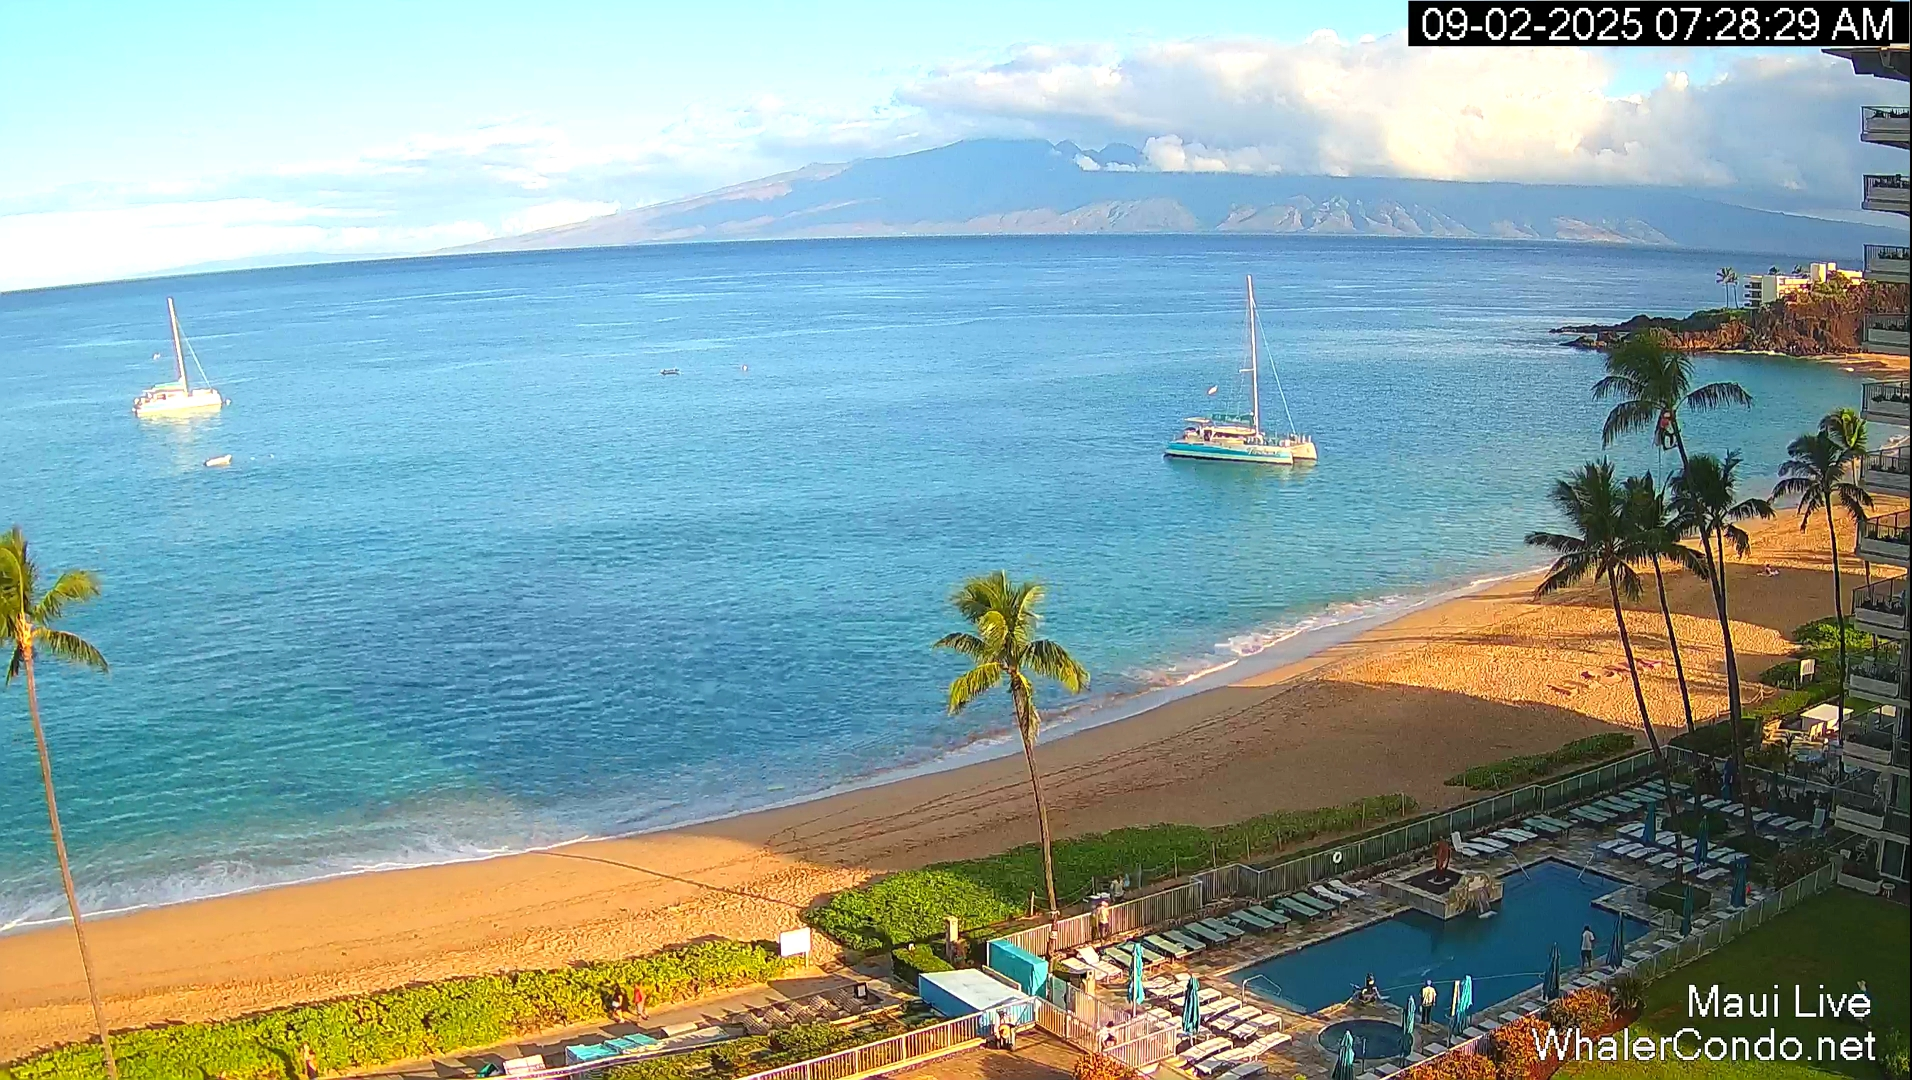boat: (1164, 274, 1319, 466), (429, 1019, 640, 1078), (132, 296, 224, 418), (659, 367, 684, 375)
person: (0, 526, 104, 640), (1419, 979, 1437, 1025), (1580, 925, 1595, 969), (632, 982, 649, 1020), (1097, 901, 1111, 939), (1109, 874, 1126, 905), (1098, 1021, 1117, 1048), (1103, 1030, 1116, 1047)
